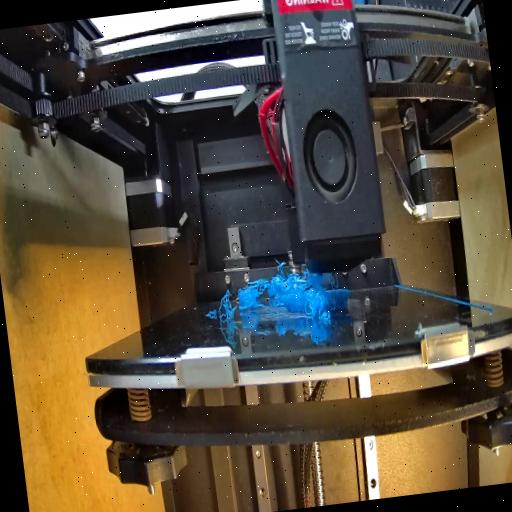spaghetti: (232, 270, 299, 312), (300, 270, 330, 328), (212, 290, 234, 326)
